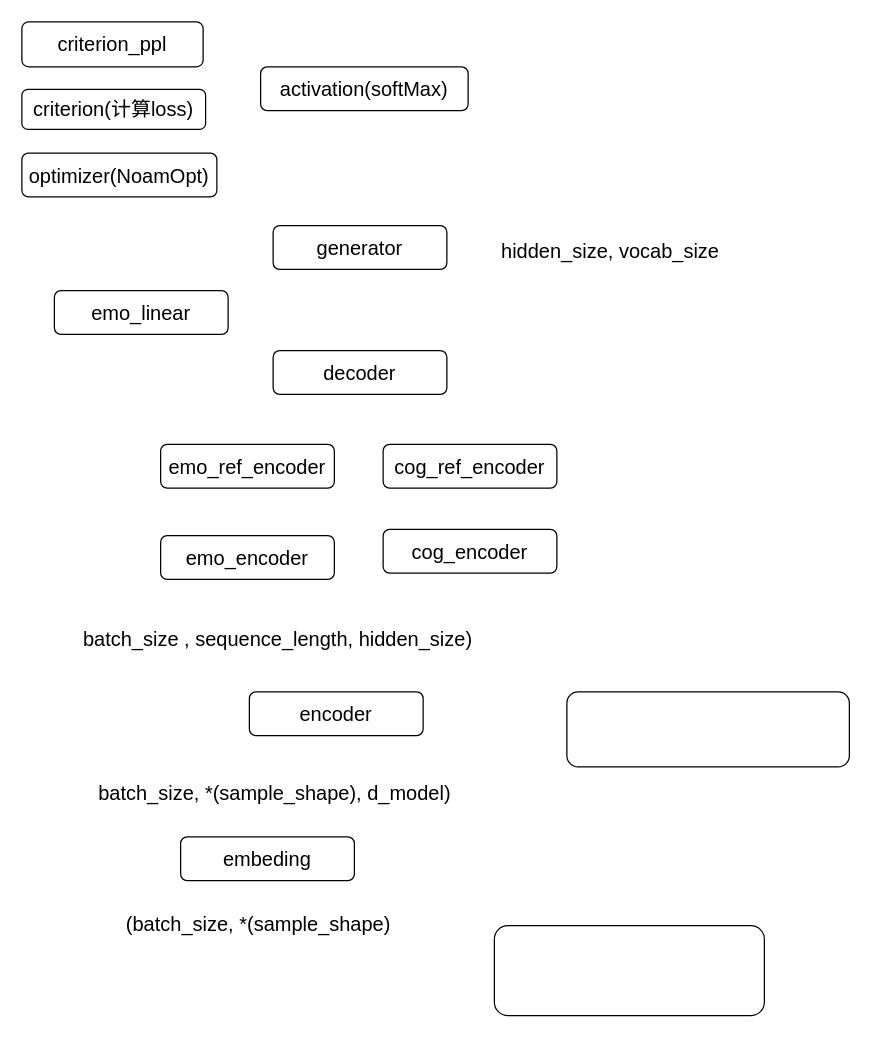
Image size: 871x1038. Some labels were removed from this diagram. Each missing label, with the centre of its shape:
Droupout Linear(d_model, hidden_size): point 707,729
lut : nn.Embedding (vocab, d_model): point 628,970
